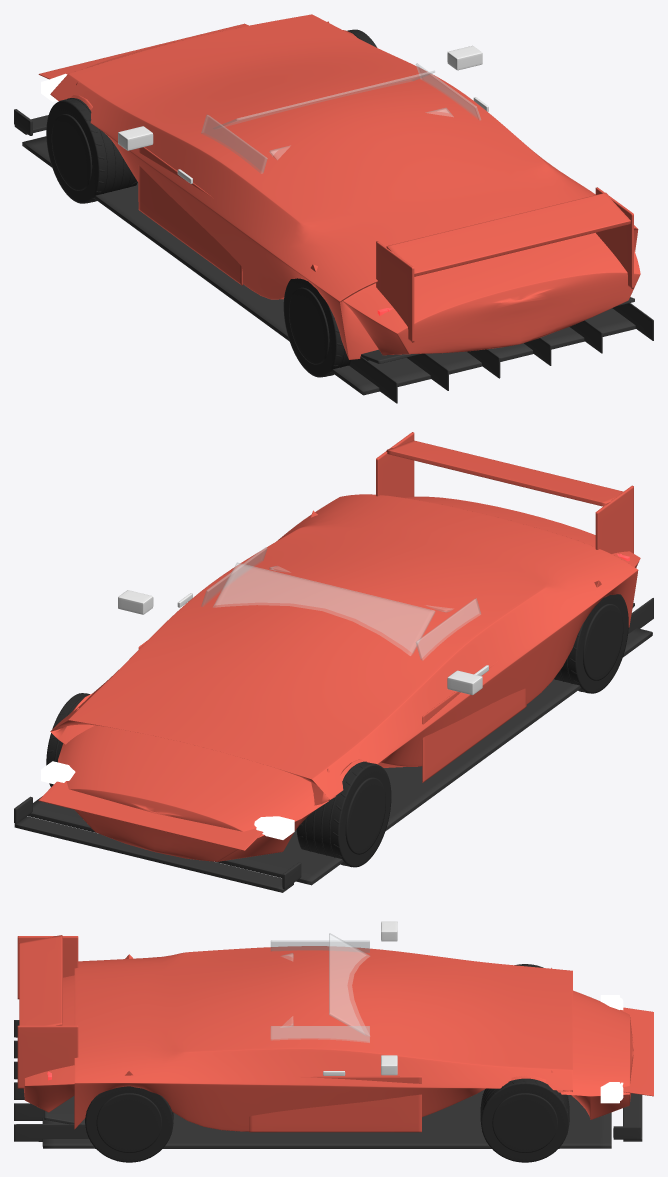
The model's file is vehicle.glb.
The picture shows the model from 3 angles, top to bottom: view 1: azimuth 30°, elevation 25°; view 2: azimuth 150°, elevation 25°; view 3: azimuth 270°, elevation 25°; orthographic projection. The views are drawn at different scales.
Parts seen in each view (by area): view 1: BODY_MainShell, UNDERBODY_FlatFloor, AERO_MP44_RearWing, WHEEL_FL_Tire, WHEEL_RL_Tire, BODY_Door_FL, GLASS_Greenhouse, JEWELRY_Hardware, BODY_Hood, AERO_FrontSplitter; view 2: BODY_MainShell, UNDERBODY_FlatFloor, GLASS_Greenhouse, AERO_MP44_RearWing, WHEEL_FL_Tire, WHEEL_RL_Tire, AERO_FrontSplitter, BODY_Hood, BODY_Door_FL, JEWELRY_Hardware, LIGHTING_Headlamps, WHEEL_FR_Tire; view 3: BODY_MainShell, UNDERBODY_FlatFloor, AERO_MP44_RearWing, WHEEL_FR_Tire, BODY_Door_FR, WHEEL_RR_Tire, GLASS_Greenhouse, BODY_Hood, AERO_FrontSplitter, JEWELRY_Hardware, LIGHTING_Headlamps.
Part boxes in pixels (x1,y1,x2,y2): BODY_MainShell: [50, 14, 640, 359]; UNDERBODY_FlatFloor: [22, 136, 653, 403]; AERO_MP44_RearWing: [376, 187, 633, 342]; WHEEL_FL_Tire: [46, 98, 137, 203]; WHEEL_RL_Tire: [283, 278, 368, 377]; BODY_Door_FL: [138, 147, 242, 285]; GLASS_Greenhouse: [201, 63, 480, 173]; JEWELRY_Hardware: [118, 45, 488, 183]; BODY_Hood: [38, 23, 248, 79]; AERO_FrontSplitter: [14, 109, 48, 135]; BODY_MainShell: [50, 494, 640, 861]; UNDERBODY_FlatFloor: [28, 598, 653, 885]; GLASS_Greenhouse: [201, 547, 480, 660]; AERO_MP44_RearWing: [376, 432, 633, 553]; WHEEL_FL_Tire: [296, 761, 391, 867]; WHEEL_RL_Tire: [554, 594, 628, 693]; AERO_FrontSplitter: [14, 796, 301, 892]; BODY_Hood: [38, 781, 263, 850]; BODY_Door_FL: [422, 661, 526, 782]; JEWELRY_Hardware: [118, 590, 488, 695]; LIGHTING_Headlamps: [41, 761, 294, 839]; WHEEL_FR_Tire: [46, 693, 89, 786]; BODY_MainShell: [24, 946, 633, 1131]; UNDERBODY_FlatFloor: [14, 1020, 611, 1148]; AERO_MP44_RearWing: [17, 935, 78, 1088]; WHEEL_FR_Tire: [480, 1078, 569, 1162]; BODY_Door_FR: [249, 1076, 421, 1132]; WHEEL_RR_Tire: [85, 1086, 173, 1162]; GLASS_Greenhouse: [270, 933, 369, 1042]; BODY_Hood: [620, 1007, 653, 1096]; AERO_FrontSplitter: [613, 1093, 642, 1141]; JEWELRY_Hardware: [323, 921, 397, 1075]; LIGHTING_Headlamps: [600, 995, 623, 1103].
Size of what is drawn, in the model's own units: 2.48 by 1.04 by 4.64.
